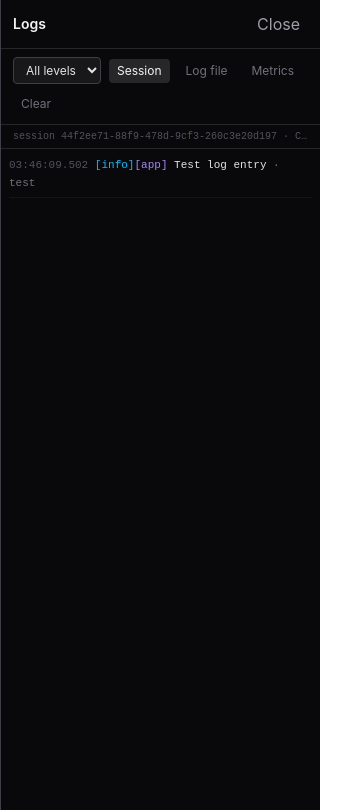
LogViewerPanel › shows session metrics
This screenshot has width=337, height=810.
Click the button with test id "log-tab-metrics".
click(273, 70)  # box [244, 58, 302, 82]
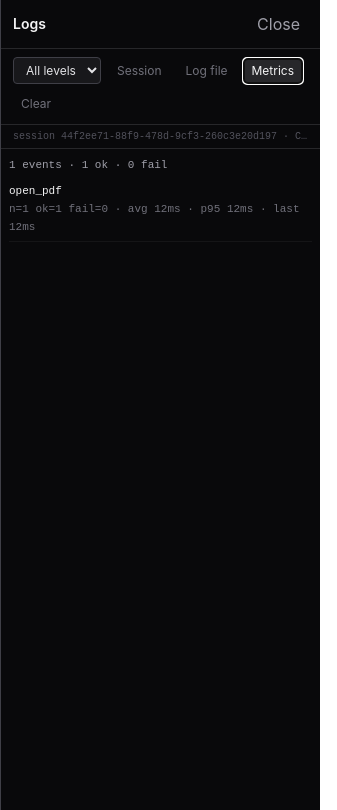
expect the element with test id "metrics-panel" shows "open_pdf": met, box [9, 185, 62, 197]
expect the element with test id "metrics-panel" shows "n=1": met, box [9, 157, 312, 242]
